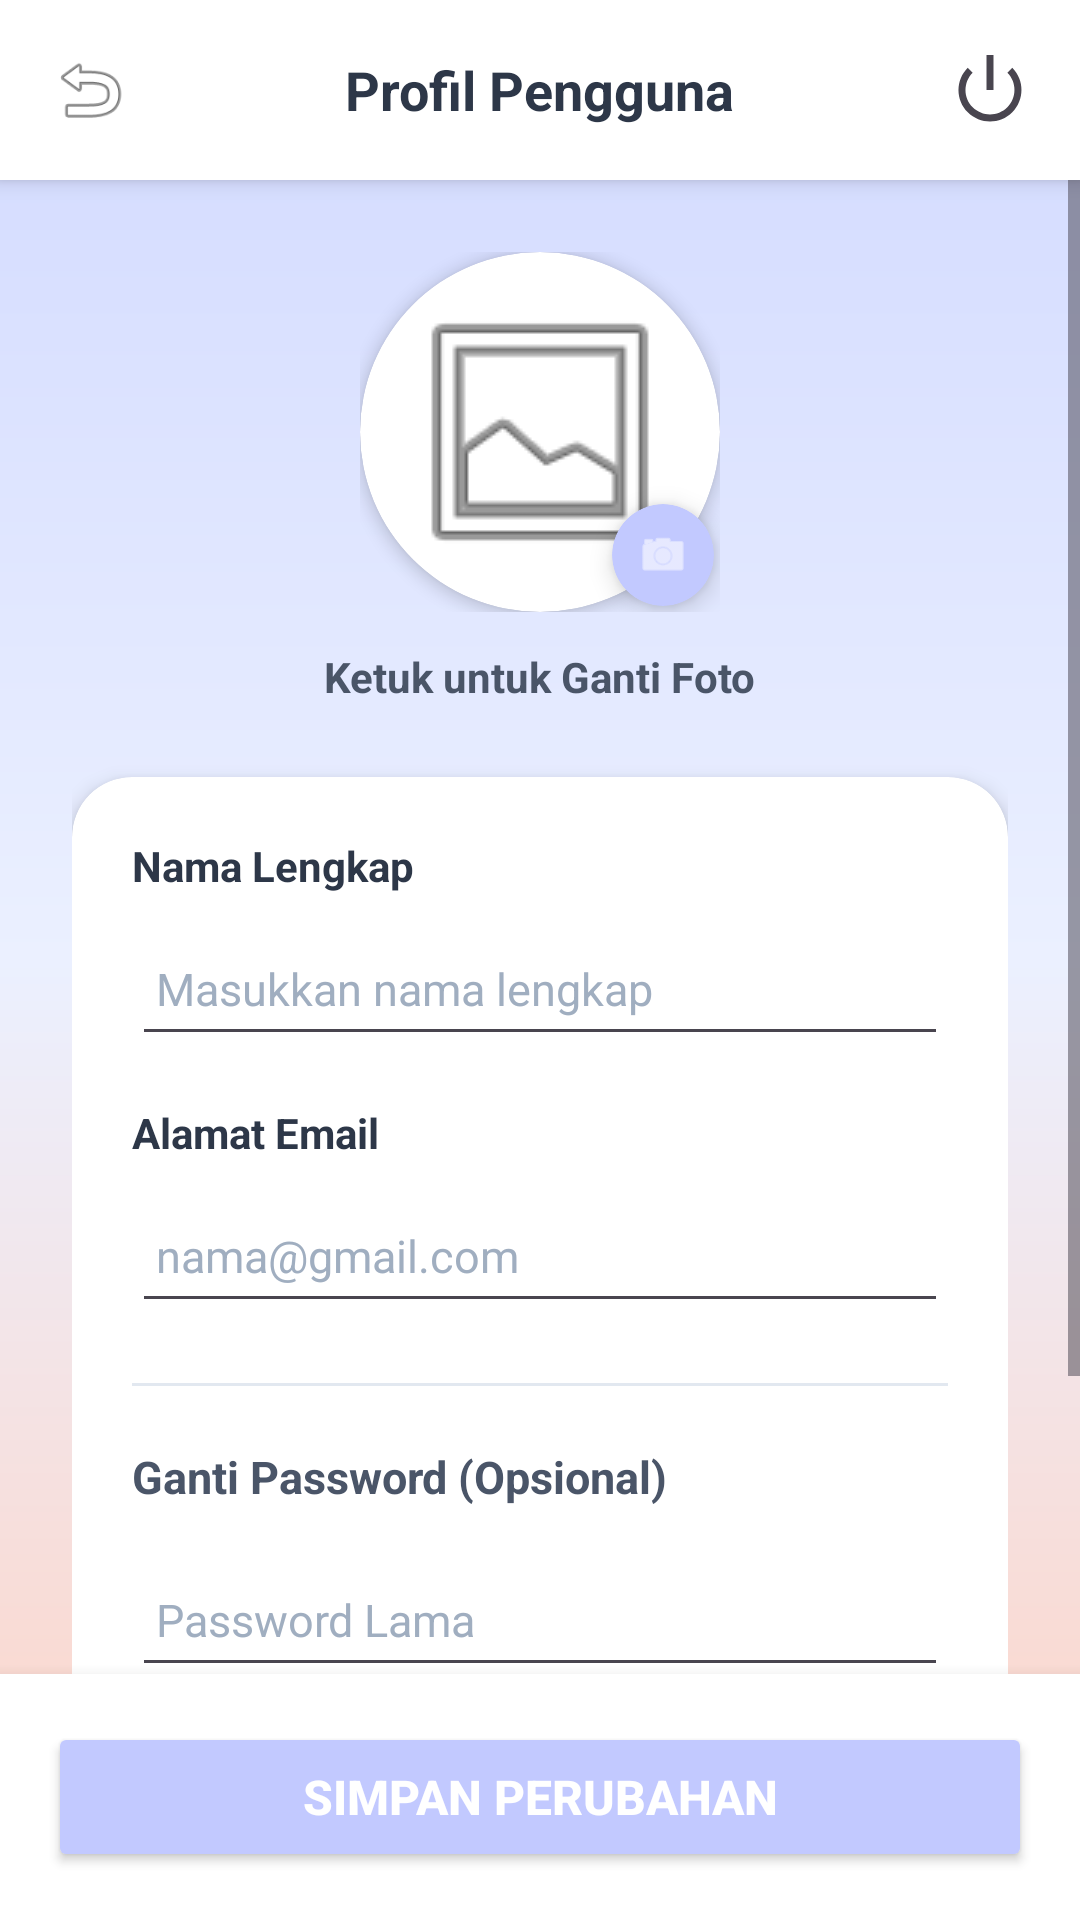

Icons on this 1080w x 1920h Android screen, each with its box as (x1, y1, x2, y2):
Kembali: (61, 63, 122, 118)
